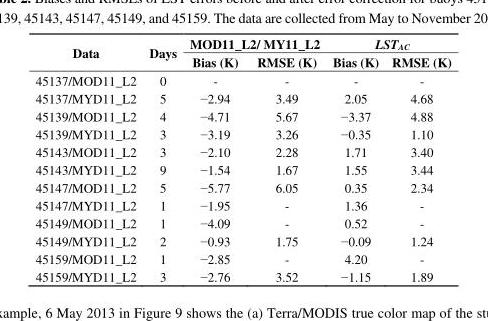table: (34, 34, 450, 284)
table column: (34, 34, 142, 284), (246, 34, 325, 284), (384, 34, 450, 284), (182, 34, 246, 284), (325, 34, 384, 284), (142, 34, 182, 284)
table column header: (34, 34, 450, 70)
table row: (34, 34, 450, 52), (34, 52, 450, 70), (34, 70, 450, 88), (34, 88, 450, 106), (34, 106, 450, 124), (34, 124, 450, 142), (34, 159, 450, 177), (34, 177, 450, 195), (34, 195, 450, 213), (34, 213, 450, 231), (34, 231, 450, 249), (34, 266, 450, 284), (34, 142, 450, 159), (34, 249, 450, 266)
table spanning cell: (34, 34, 142, 70), (182, 34, 325, 52), (325, 34, 450, 52), (142, 34, 182, 70)
